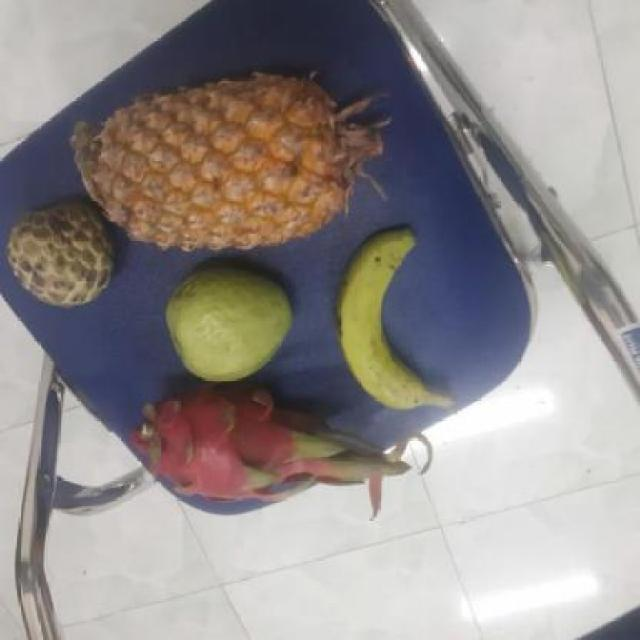banana: (336, 234, 447, 411)
dragon fruit: (143, 380, 317, 512)
guava: (164, 266, 298, 380)
pineapple: (87, 79, 388, 246)
sugar apple: (7, 202, 124, 306)
